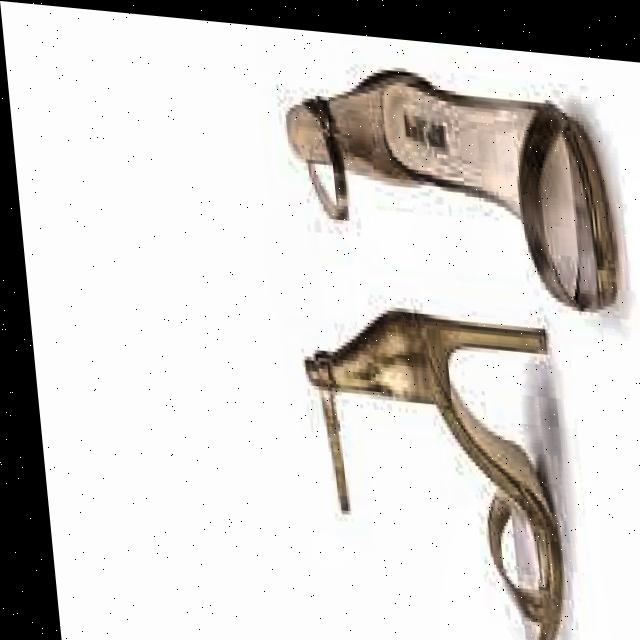shoes: (268, 45, 640, 640)
